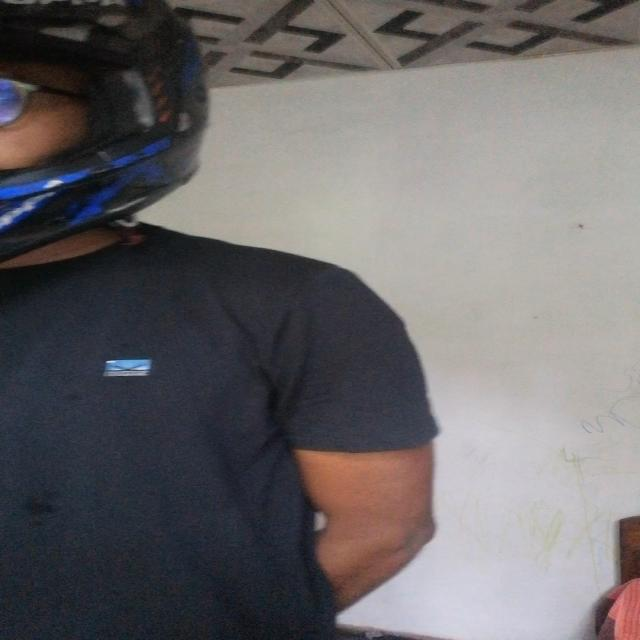Helmet_Wearer: (0, 0, 276, 295)
